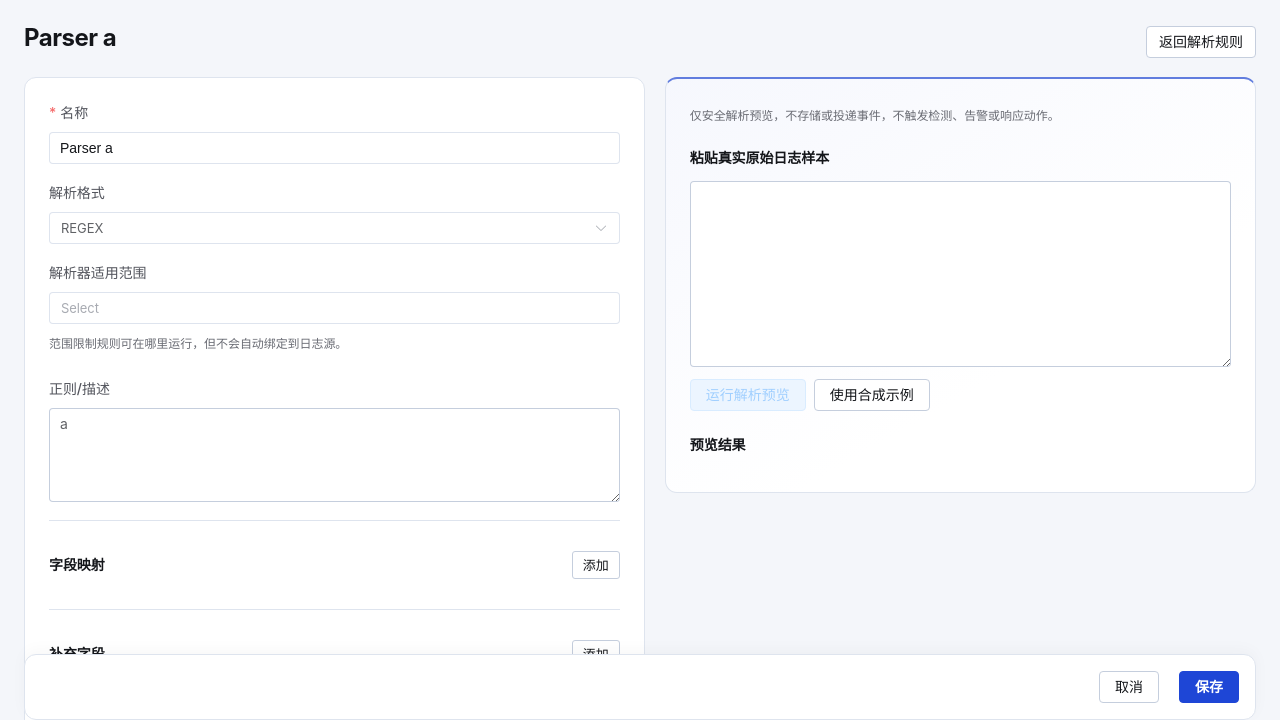
parse editor route ownership › marks an in-flight preview stale when the sample is edited before it returns
In the text box named "粘贴真实原始日志样本": point(960, 274) [690,181,1231,368], type "old sample"
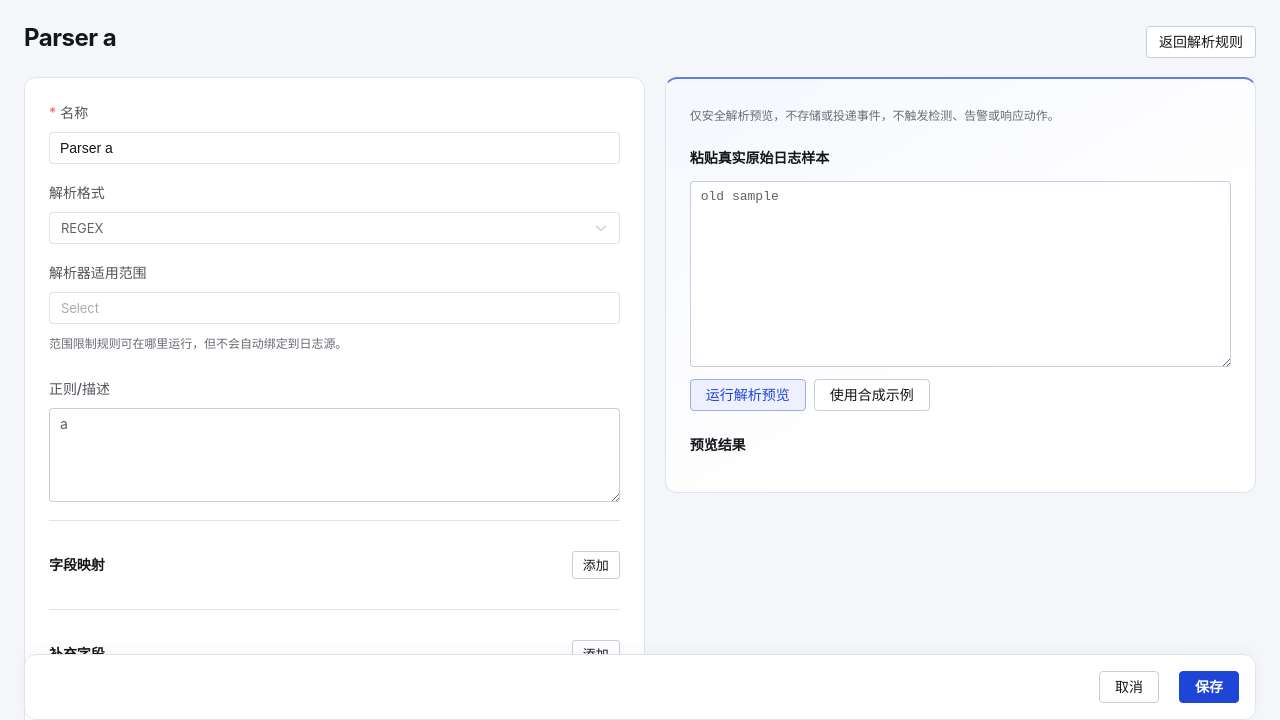
Click the button "运行解析预览": point(748, 395) [690,379,806,411]
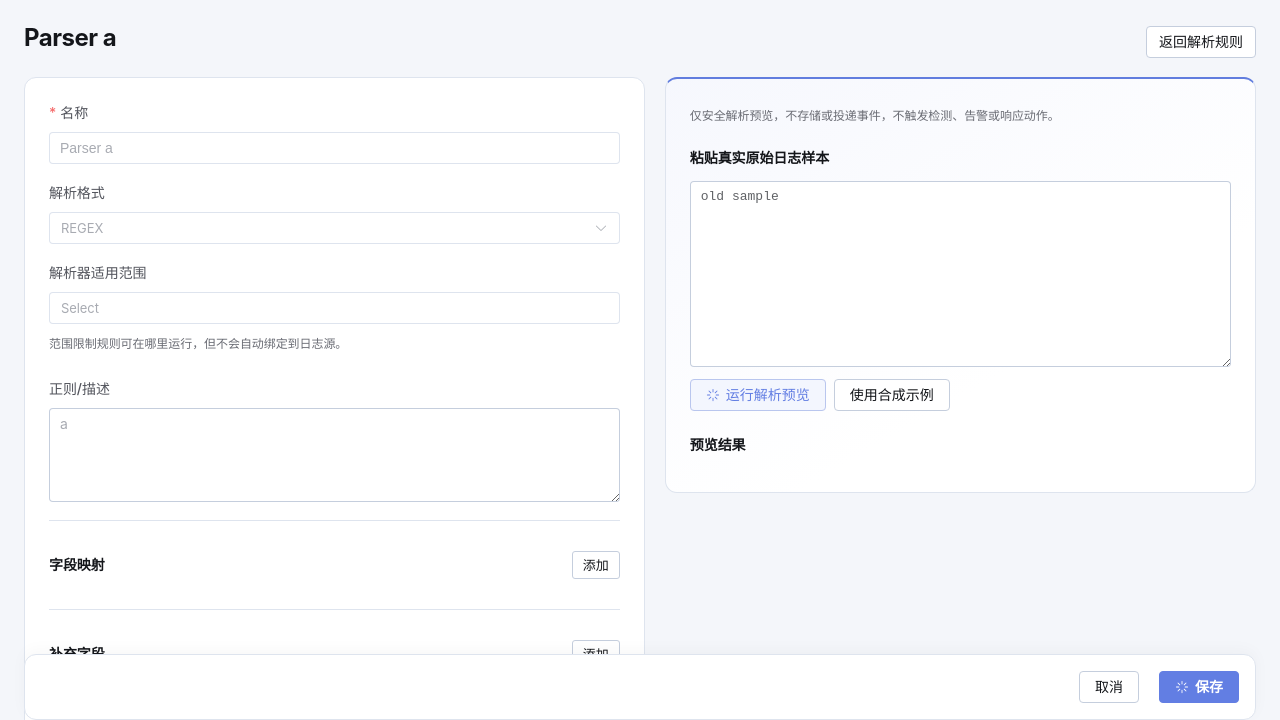
Replace the text in the text box named "粘贴真实原始日志样本" with "new sample": point(960, 274) [690,181,1231,368]
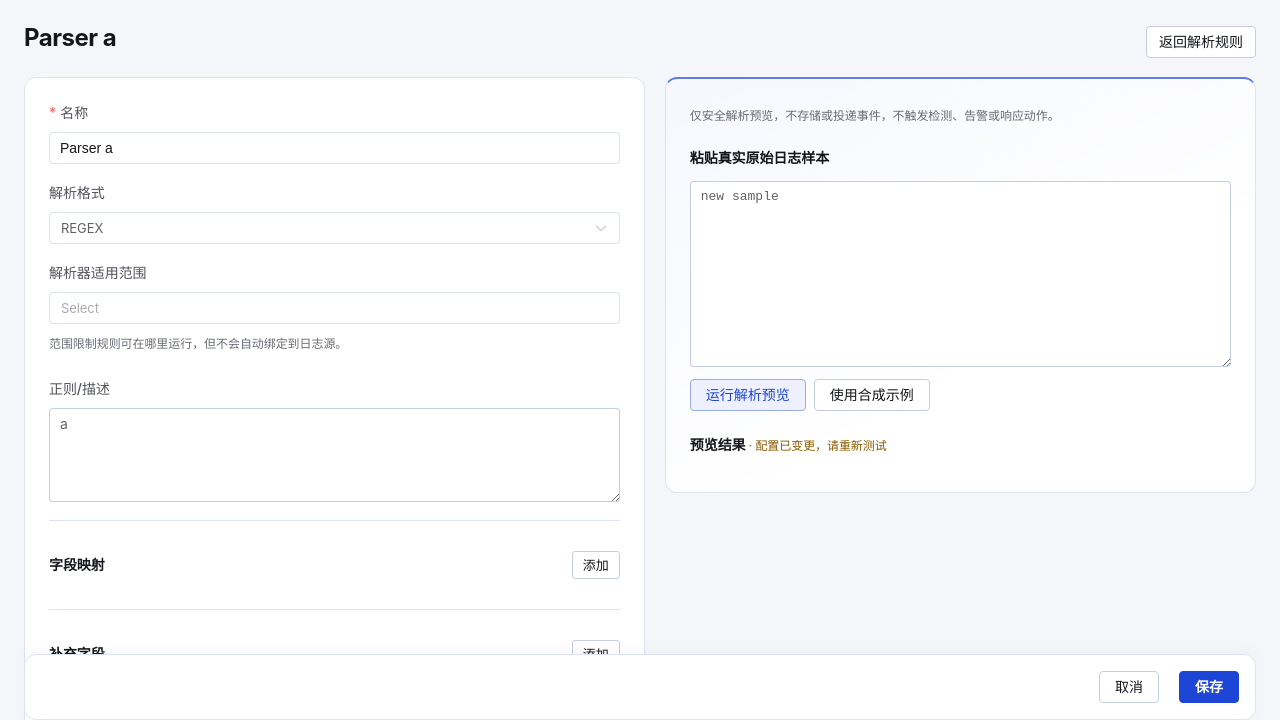
expect the text "配置已变更，请重新测试" is shown: met, box [749,438,887,453]
